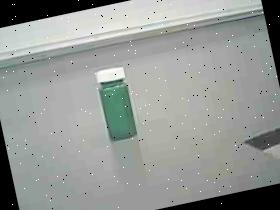Bottle C: (80, 59, 150, 153)
